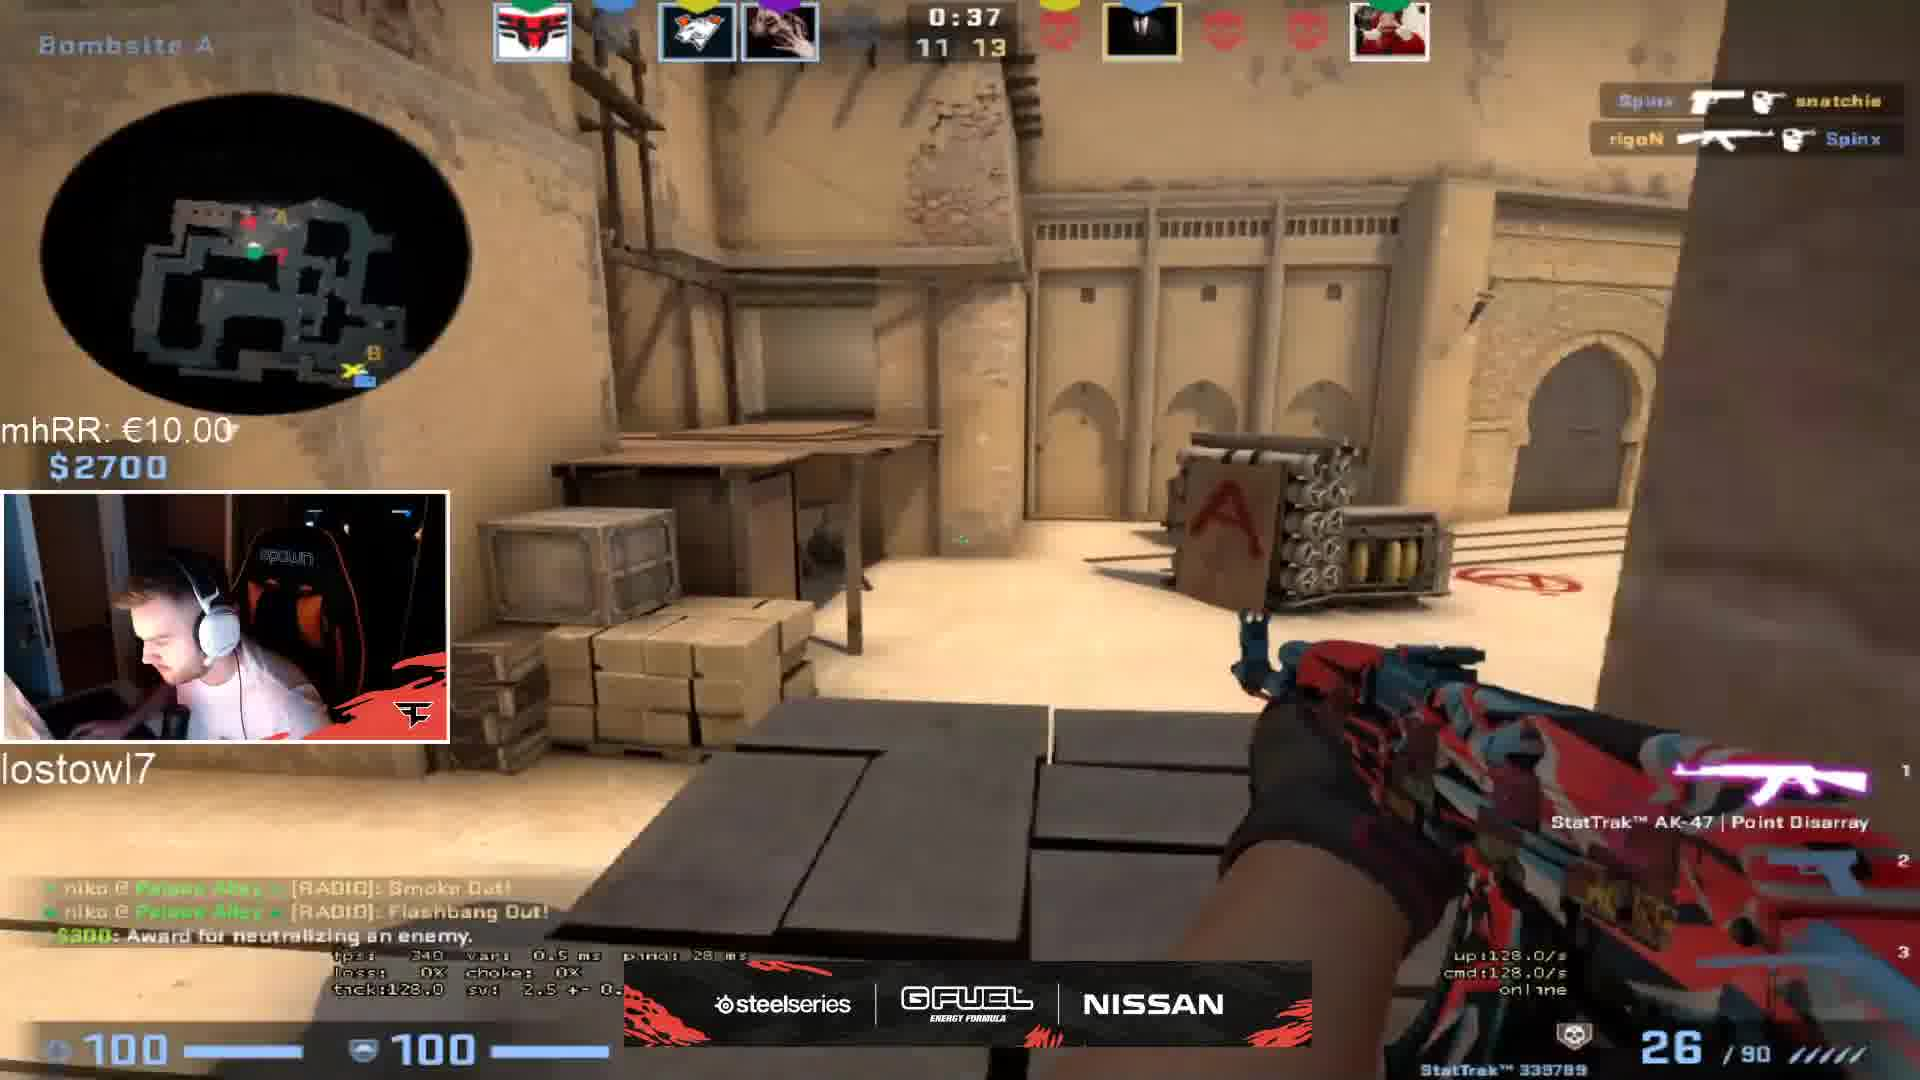enemy: (808, 517, 843, 591)
